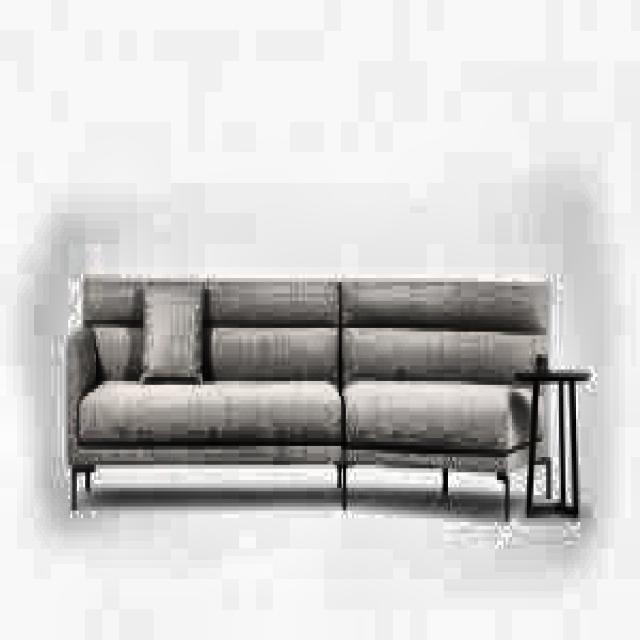sofa: (55, 263, 604, 514)
